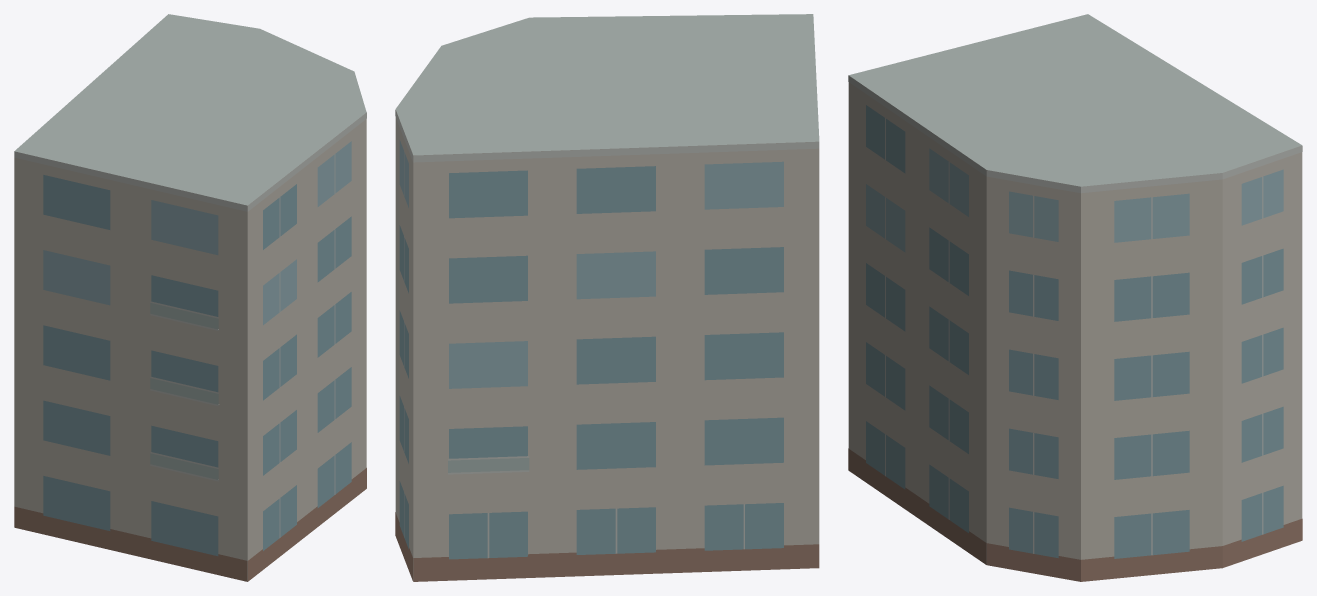
The model's file is survey-upis-32668080.glb.
3 views of the same model, side by side, from view 1: azimuth 30°, elevation 25°; view 2: azimuth 150°, elevation 25°; view 3: azimuth 270°, elevation 25° (orthographic). The views are drawn at different scales.
Visible parts, largest first — view 1: survey-upis-32668080.tmp; view 2: survey-upis-32668080.tmp; view 3: survey-upis-32668080.tmp.
Boxes of the visible parts, x1=… form: survey-upis-32668080.tmp: x1=14, y1=14, x2=366, y2=581; survey-upis-32668080.tmp: x1=395, y1=14, x2=819, y2=581; survey-upis-32668080.tmp: x1=848, y1=14, x2=1302, y2=581.
Size of the model in its own units: 13.78 by 14.7 by 15.31.
